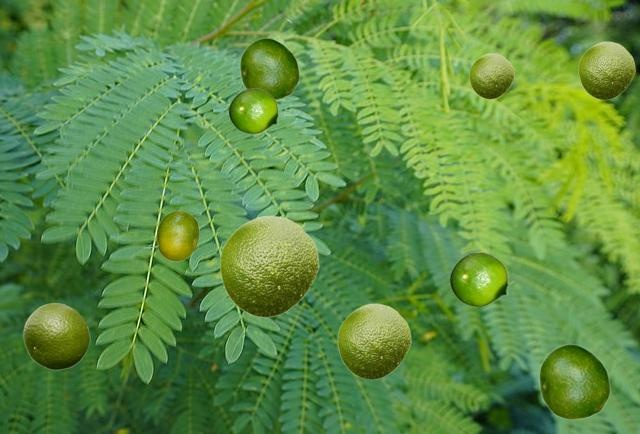calamansi: (219, 215, 318, 317), (337, 303, 410, 379), (538, 343, 610, 419), (23, 302, 89, 369), (239, 37, 299, 100), (449, 252, 514, 306), (578, 41, 634, 99), (142, 210, 198, 260), (228, 88, 283, 133), (469, 53, 513, 98)
